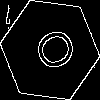O: (25, 25, 79, 78)
